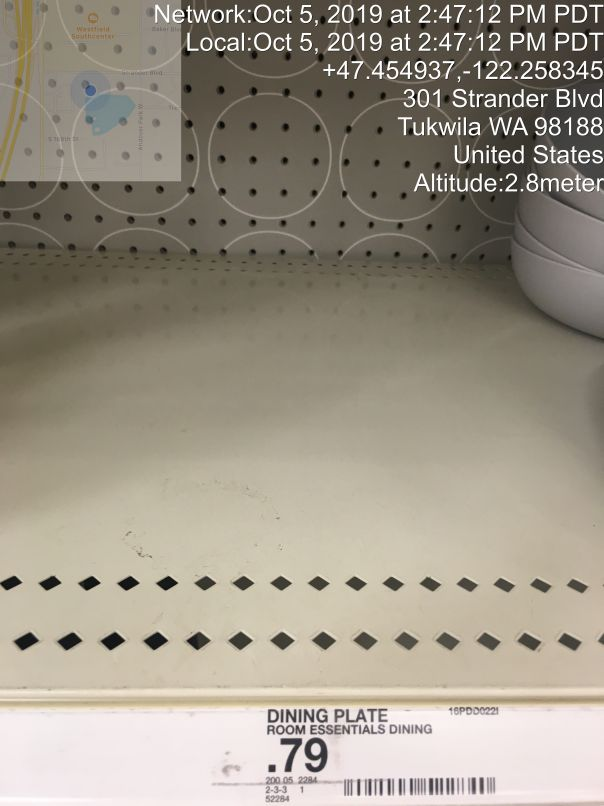Label: (246, 696, 497, 806)
Location: (392, 84, 604, 170)
Time: (145, 1, 604, 59)
Void: (21, 105, 519, 652)
